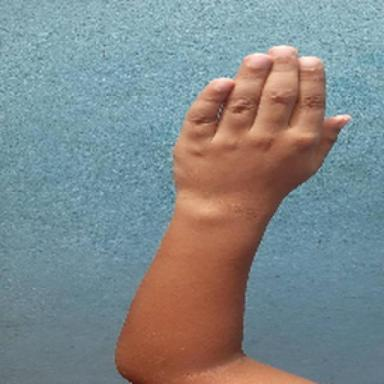normal skin: (115, 47, 350, 384)
